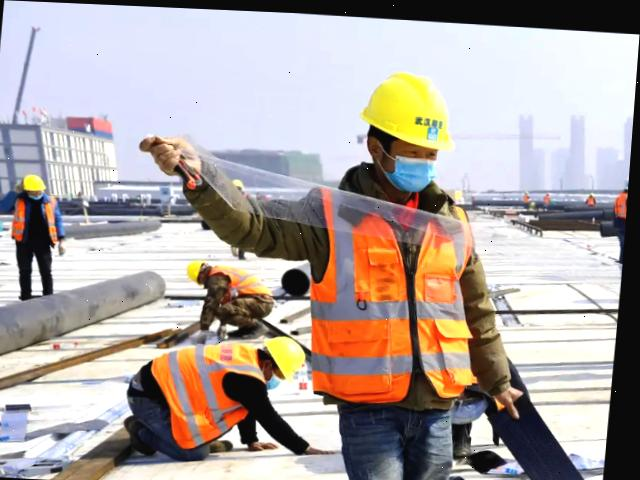helmet: (357, 72, 459, 152), (271, 332, 311, 378), (22, 175, 51, 194), (195, 256, 213, 284), (229, 176, 248, 190), (626, 167, 632, 184)
vest: (316, 184, 487, 400), (162, 344, 260, 434), (11, 192, 67, 243), (215, 263, 276, 304), (618, 191, 630, 213)
